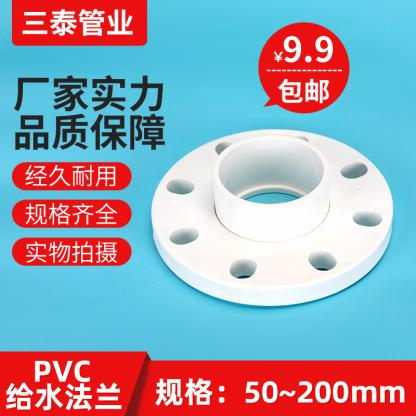FOD: (148, 126, 397, 314)
